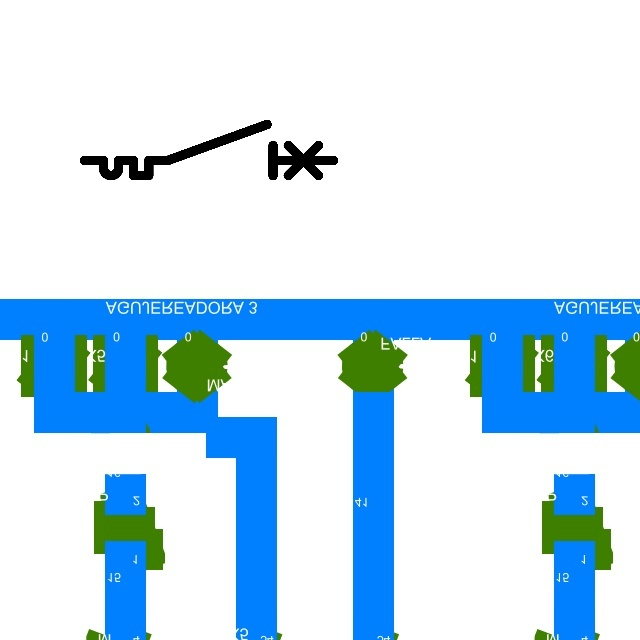interruptor_termomagnetico: (78, 118, 340, 182)
